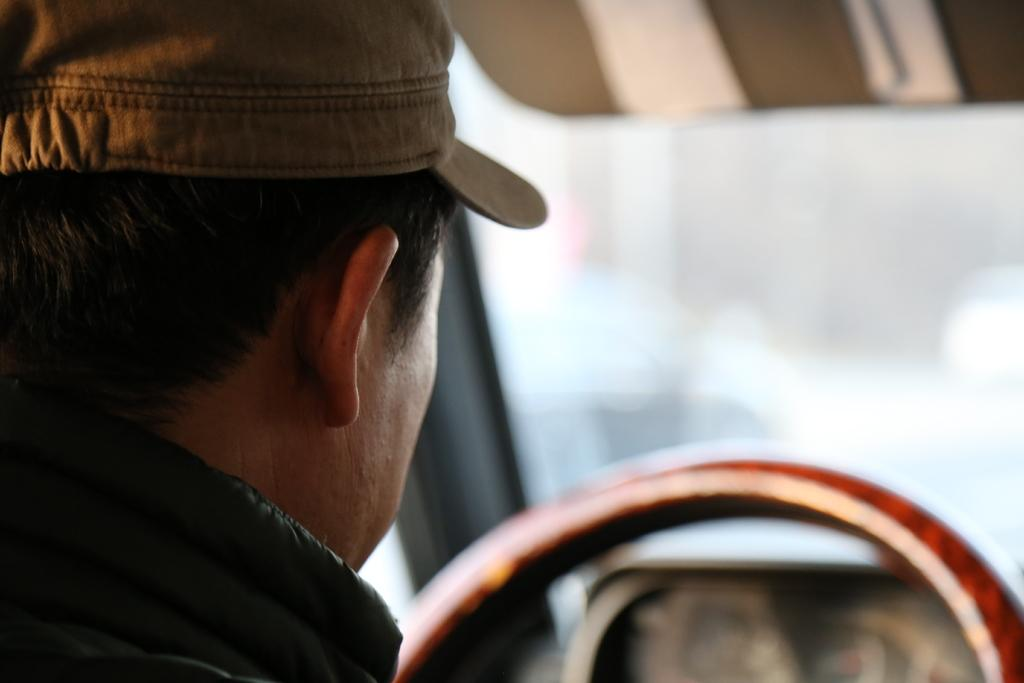Hat: (0, 0, 549, 228)
